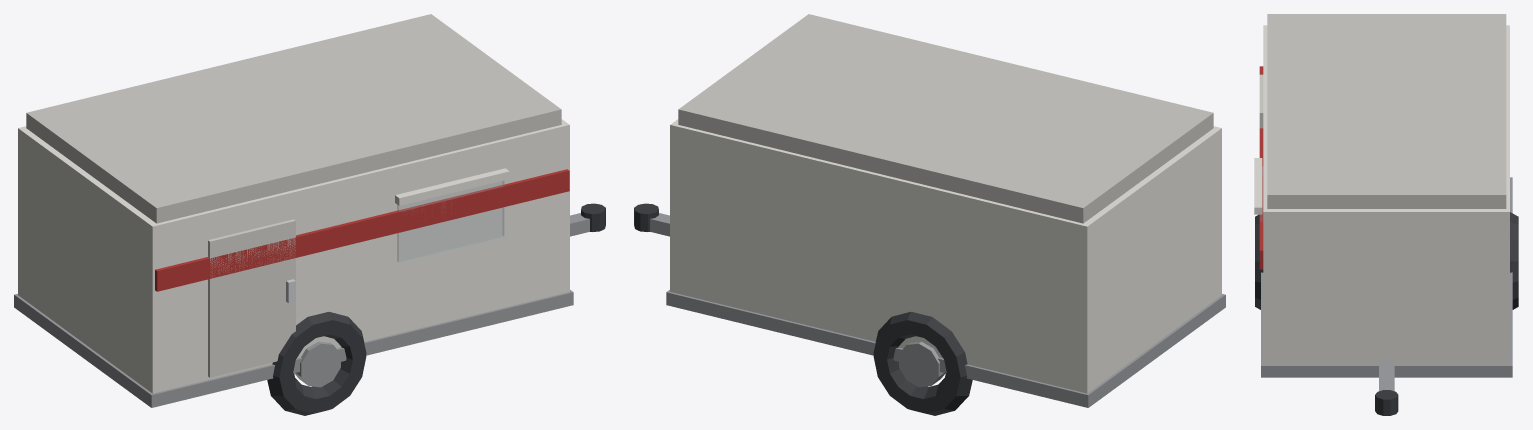
Rendered from trailer.glb.
The picture shows the model from 3 angles, left to right: view 1: azimuth 30°, elevation 25°; view 2: azimuth 150°, elevation 25°; view 3: azimuth 270°, elevation 25°; orthographic projection. The views are drawn at different scales.
Visible parts, largest first — view 1: trailer; view 2: trailer; view 3: trailer.
Boxes of the visible parts, <box> form: trailer: <box>14,14,605,415</box>; trailer: <box>634,14,1225,415</box>; trailer: <box>1254,14,1518,415</box>.
Bounding box in the file's own units: 4.25 × 1.9 × 2.04.
